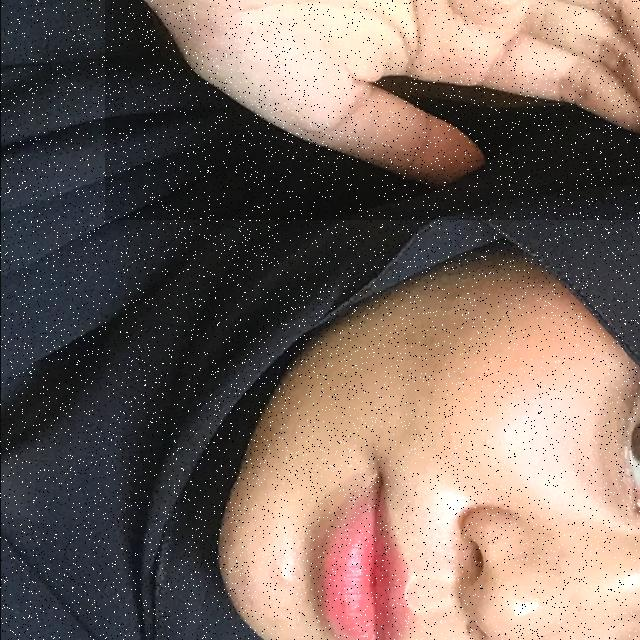mendengar: (104, 0, 640, 220)
